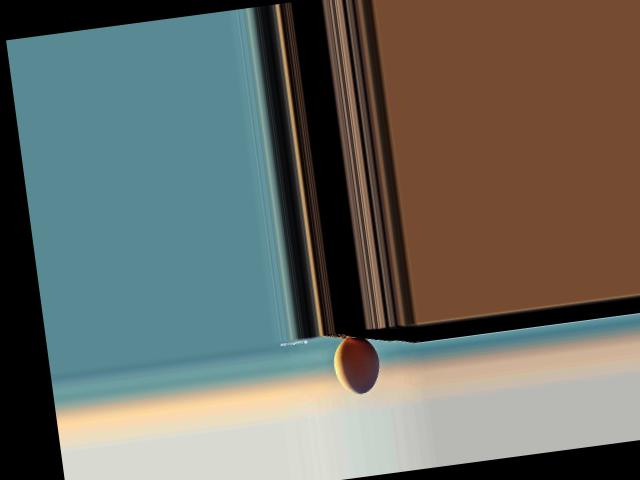egg: (330, 334, 382, 397)
